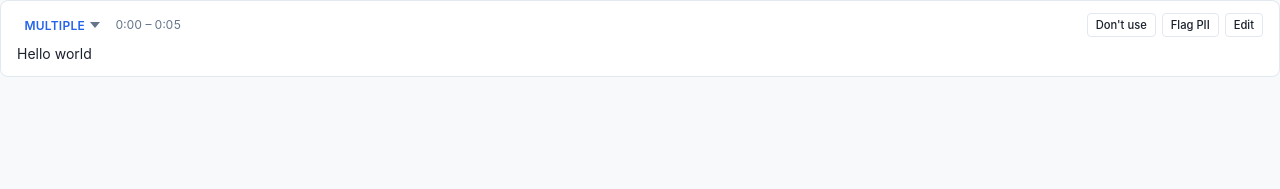
Test case: SegmentList › Segment text editing › Edit button enters inline editing mode with textarea
This screenshot has width=1280, height=189.
Click the button with test id "segment-edit-btn-0": (1244, 25) x1=1225 y1=13 x2=1263 y2=37
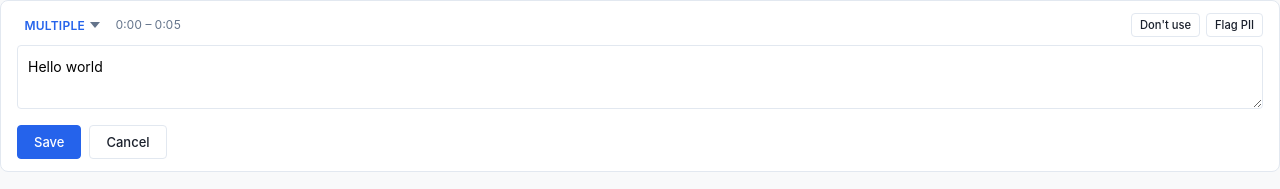
Now the text box with test id "segment-edit-input-0" holds "Hello world", box x1=17 y1=45 x2=1263 y2=109
